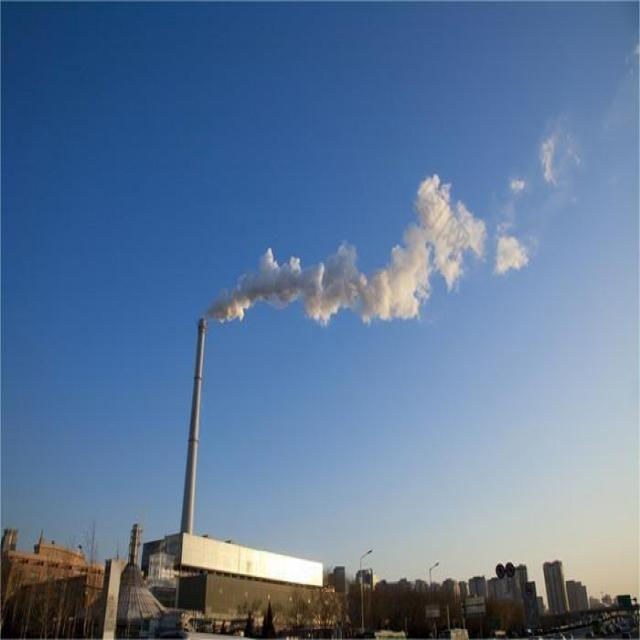Smoke: (205, 170, 483, 326)
